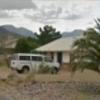cars: (8, 52, 62, 75)
